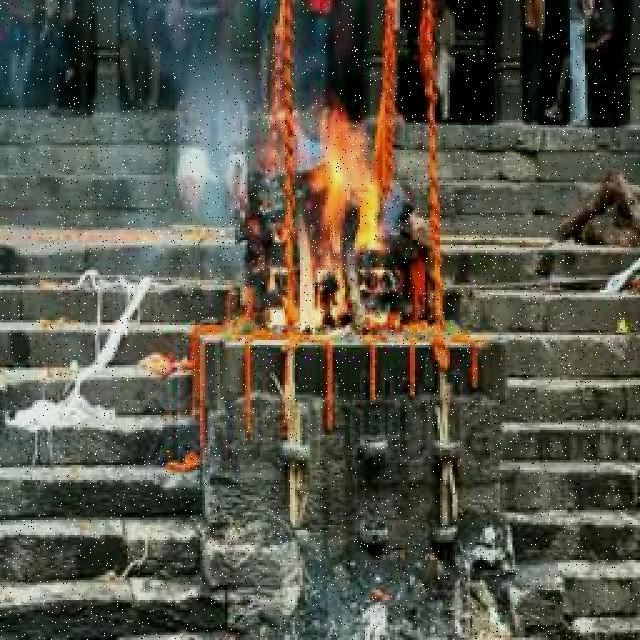Fire: (289, 102, 381, 330)
